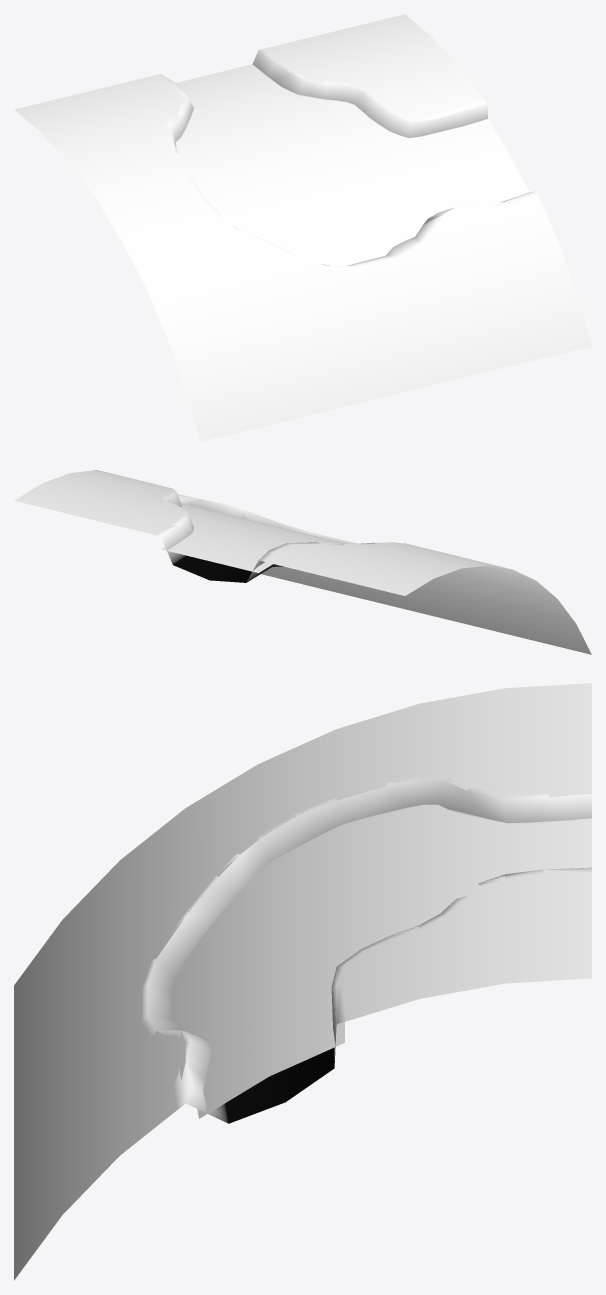
File: grd_Rwn_P_0.dae
3 renders of one model, top to bottom at view 1: azimuth 30°, elevation 25°; view 2: azimuth 150°, elevation 25°; view 3: azimuth 270°, elevation 25°, orthographic. The views are drawn at different scales.
Parts seen in each view (by area): view 1: grd_Rwn_P_0; view 2: grd_Rwn_P_0; view 3: grd_Rwn_P_0.
Boxes of the visible parts, x1,y1,x2,y2 form: grd_Rwn_P_0: (14, 14, 591, 441); grd_Rwn_P_0: (14, 470, 591, 654); grd_Rwn_P_0: (14, 683, 591, 1280).
Size of the model in its own units: 512 by 244 by 423.
Materials: 4 (1 with a texture image).
